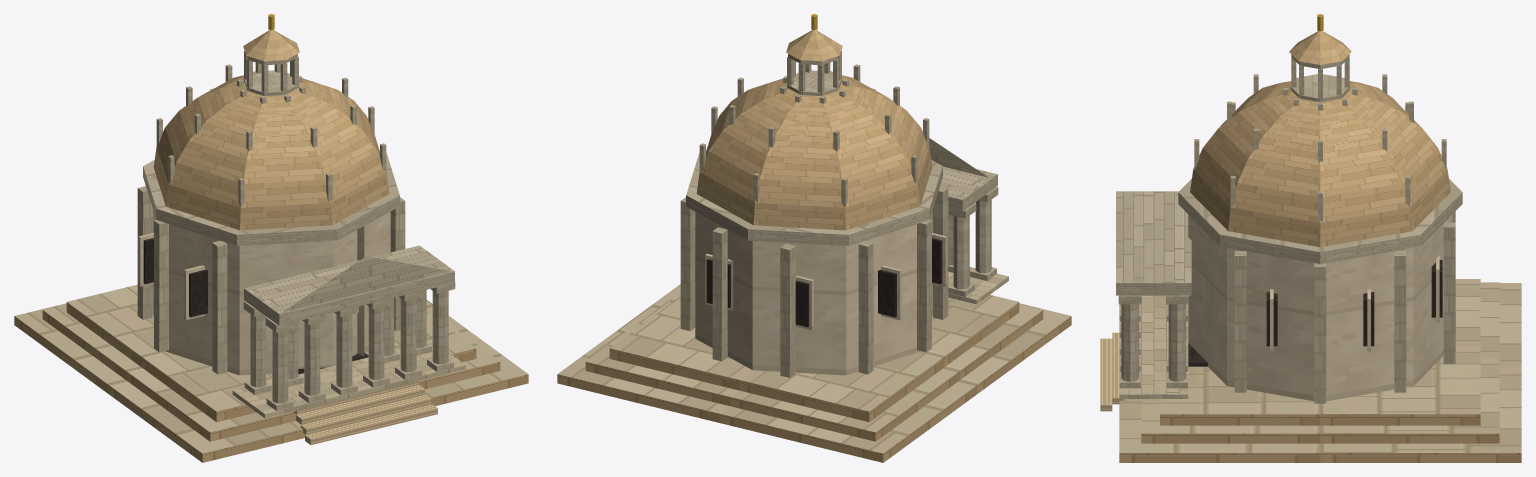
Rendered from ae_sand_dome_temple_lod2.glb.
3 views of the same model, side by side, from view 1: azimuth 30°, elevation 25°; view 2: azimuth 150°, elevation 25°; view 3: azimuth 270°, elevation 25° (orthographic). The views are drawn at different scales.
Visible parts, largest first — view 1: ae_sand_dome_temple_lod2; view 2: ae_sand_dome_temple_lod2; view 3: ae_sand_dome_temple_lod2.
Part boxes in pixels (box(x1,y1,x2,y2)): ae_sand_dome_temple_lod2: box(14, 14, 528, 462); ae_sand_dome_temple_lod2: box(557, 14, 1071, 462); ae_sand_dome_temple_lod2: box(1100, 14, 1521, 462).
Bounding box in the file's own units: 9.72 × 9.66 × 10.17.
1 material, 1 textured.
